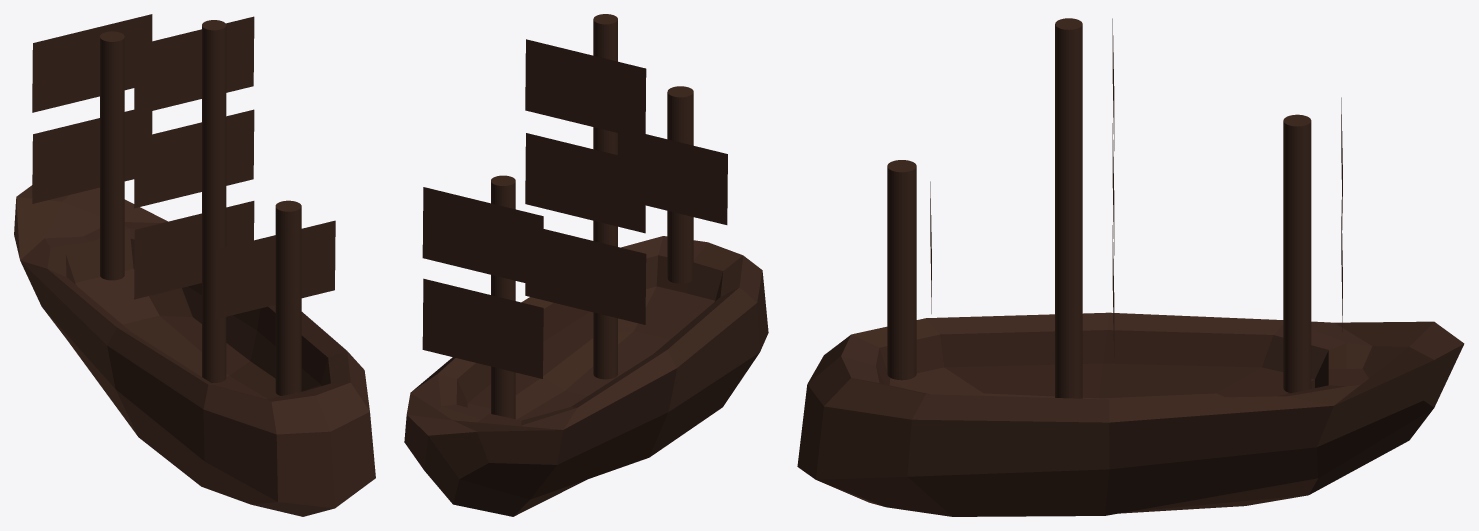
File: ship.fbx
3 views of the same model, side by side, from view 1: azimuth 30°, elevation 25°; view 2: azimuth 150°, elevation 25°; view 3: azimuth 270°, elevation 25° (orthographic). The views are drawn at different scales.
Parts seen in each view (by area): view 1: 平面.005; view 2: 平面.005; view 3: 平面.005.
Boxes of the visible parts, box(x1,y1,x2,y2) form: 平面.005: box(14, 14, 375, 516); 平面.005: box(404, 14, 768, 516); 平面.005: box(797, 18, 1464, 516).
Bounding box in the file's own units: 544 × 1269 × 1575.
